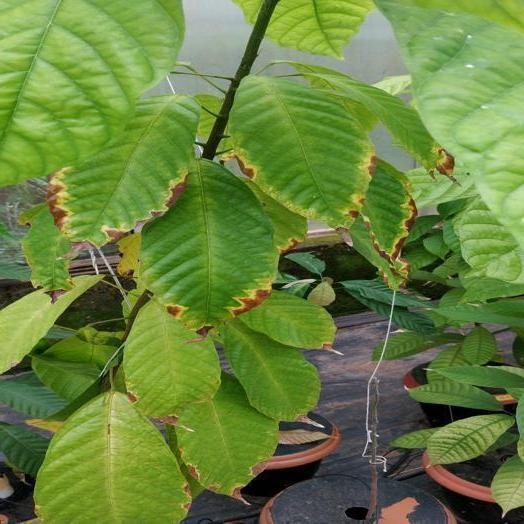Potassium: (228, 75, 375, 240), (140, 161, 279, 333), (47, 95, 199, 246), (175, 372, 278, 504), (124, 301, 220, 424), (350, 161, 416, 289)
